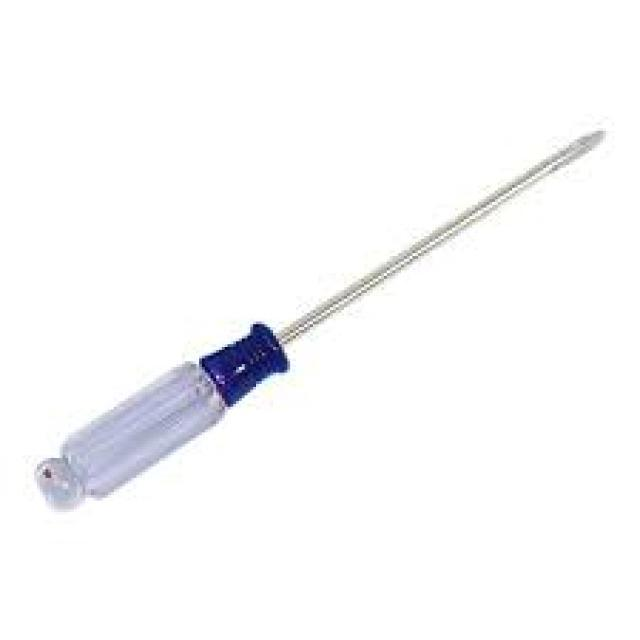screwdriver: (31, 132, 609, 514)
